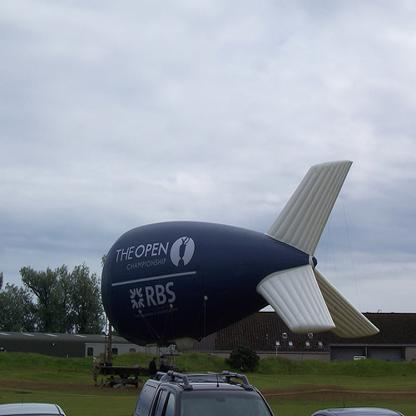Airship: (99, 160, 383, 347)
